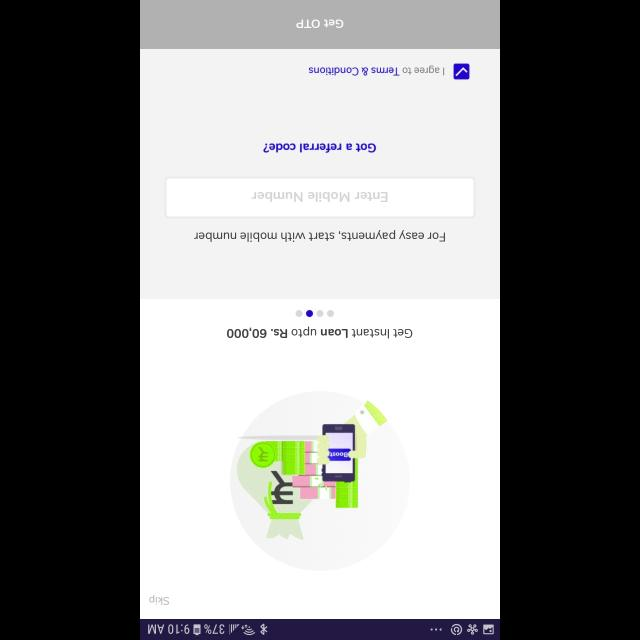checkbox: (454, 64, 470, 80)
image: (230, 390, 410, 570)
input: (164, 176, 476, 218)
pageindicator: (294, 310, 334, 316)
text: (194, 230, 446, 242), (226, 326, 412, 338), (308, 64, 444, 76), (251, 192, 387, 202), (264, 143, 376, 153), (149, 595, 169, 605)
textbutton: (141, 0, 500, 49)
uppertaskbar: (140, 618, 500, 640)
